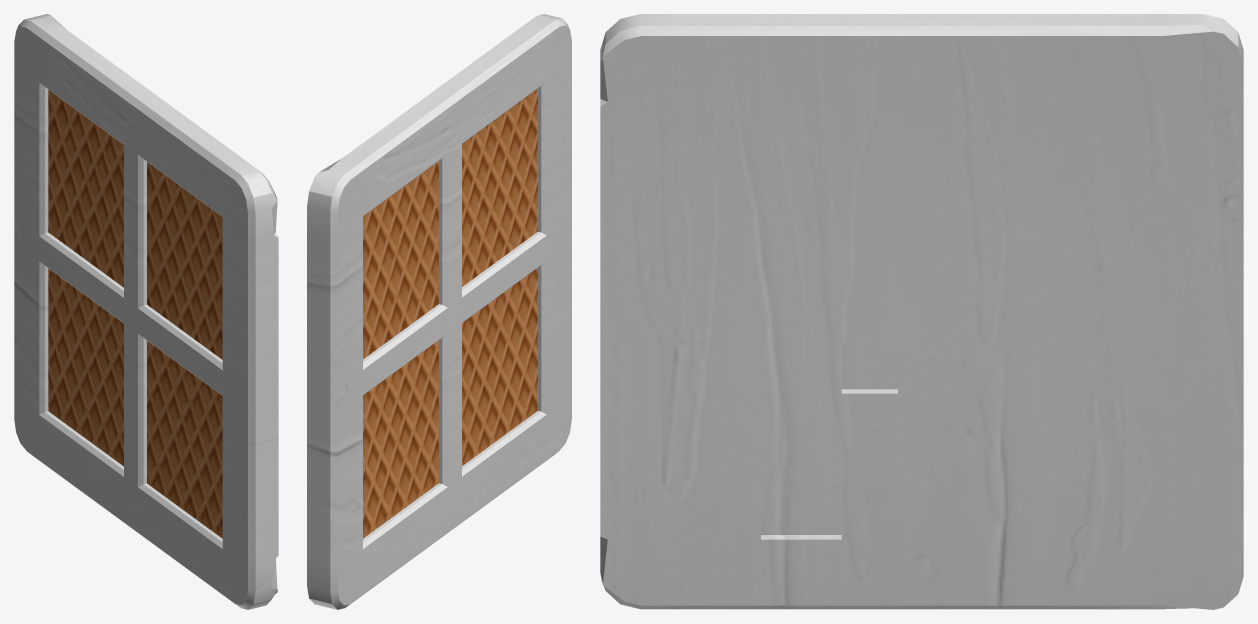
Rendered from window.fbx.
The picture shows the model from 3 angles, left to right: view 1: azimuth 30°, elevation 25°; view 2: azimuth 150°, elevation 25°; view 3: azimuth 270°, elevation 25°; orthographic projection. The views are drawn at different scales.
Visible parts, largest first — view 1: window; view 2: window; view 3: window.
Part boxes in pixels (x1,y1,x2,y2): window: [14, 14, 278, 609]; window: [307, 14, 571, 609]; window: [600, 14, 1243, 609].
Bounding box in the file's own units: 0.1053 × 1.56 × 1.56.
Materials: 1 (1 with a texture image).
